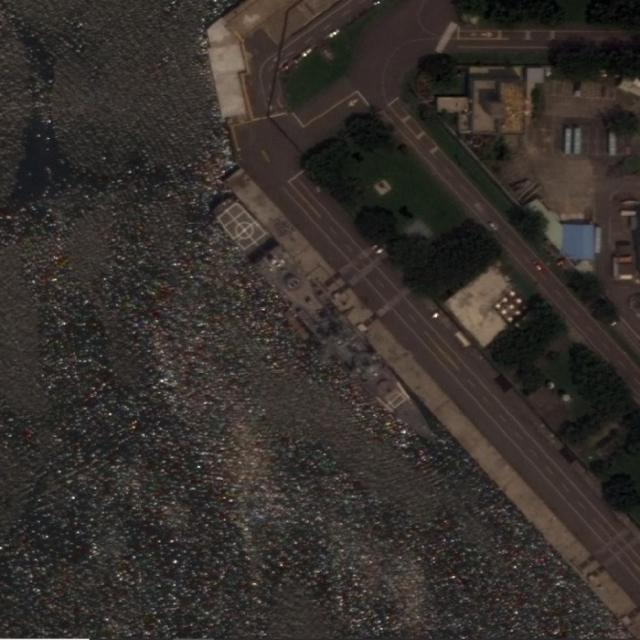Frigate: (206, 193, 447, 457)
